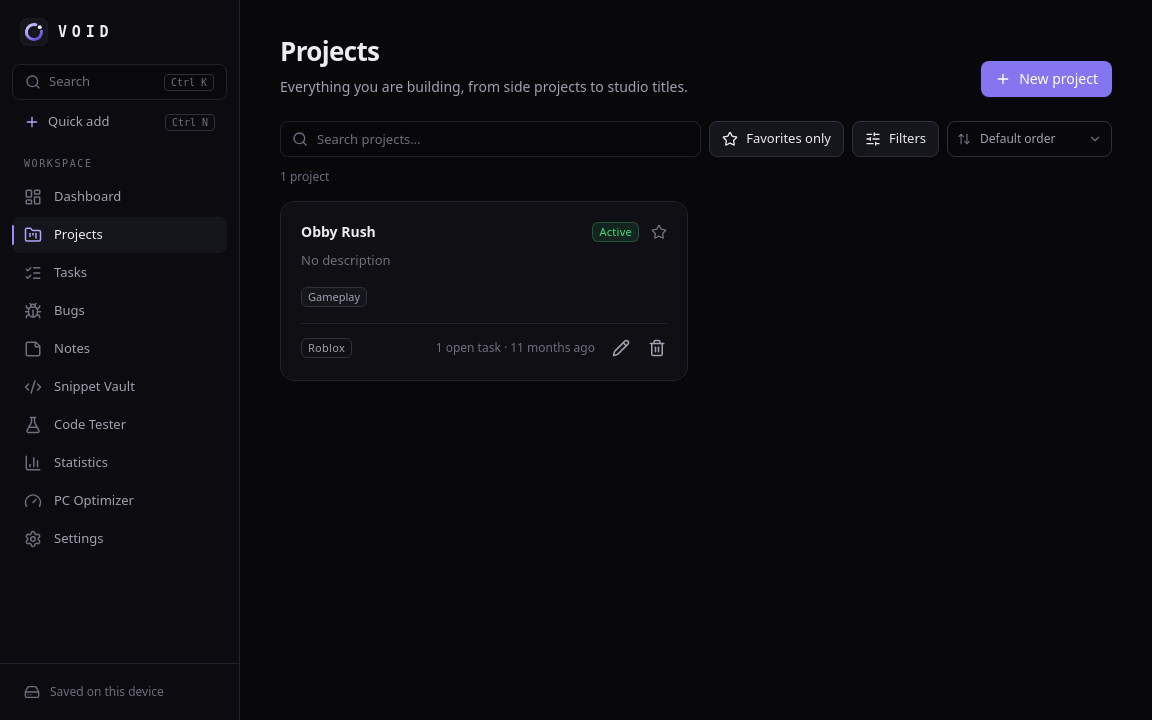
Scenario: undo after delete › restores a project together with the contents that were deleted with it
Click the button named "Delete Obby Rush" at (657, 348), box [639, 330, 675, 366]
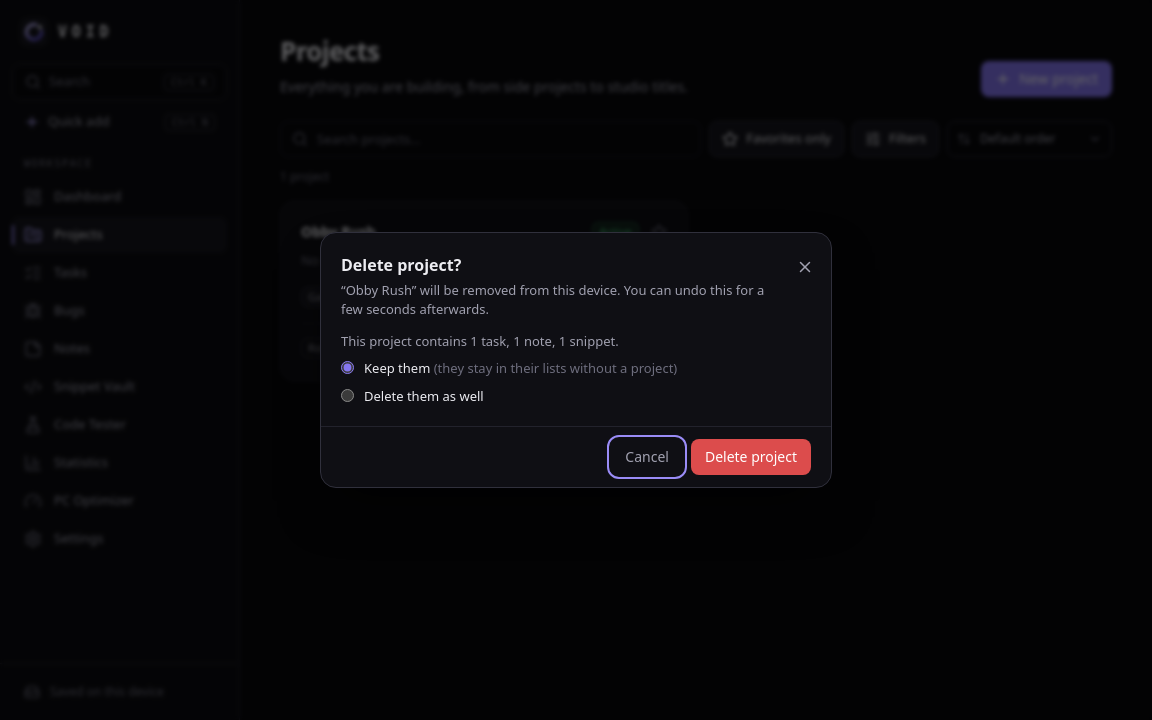
Click the radio button labelled "Delete them as well" at (348, 395), box [341, 389, 354, 402]
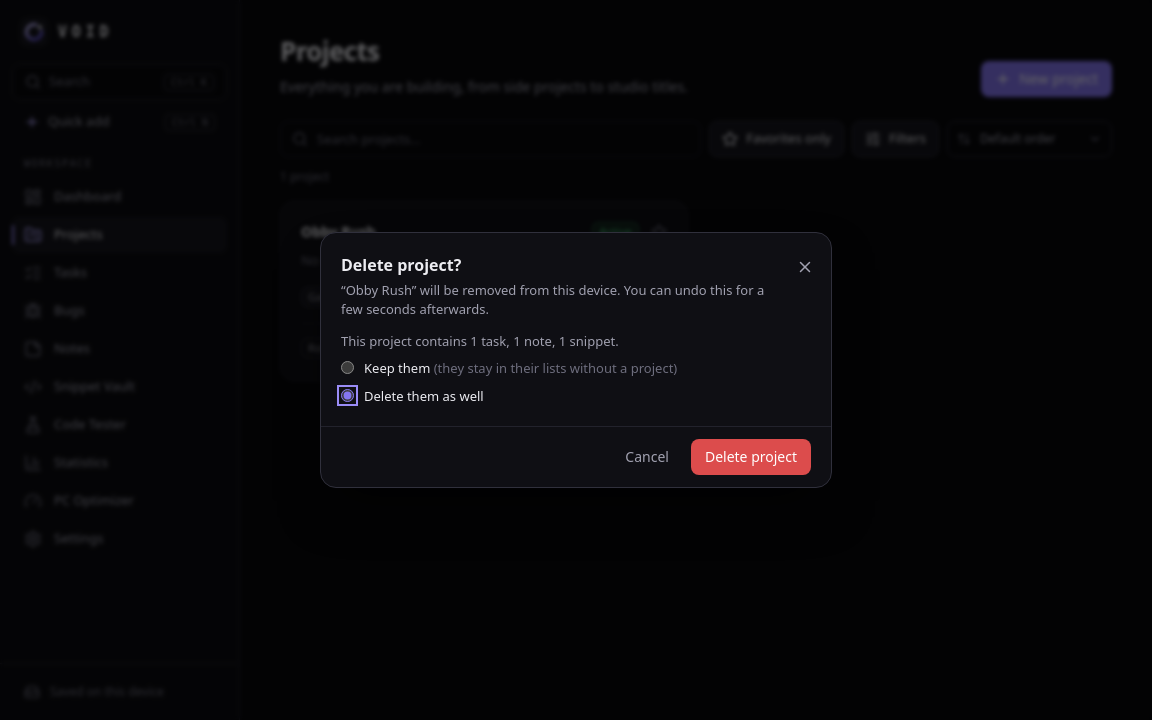
Click the button "Delete project" at (751, 457), box [691, 439, 811, 475]
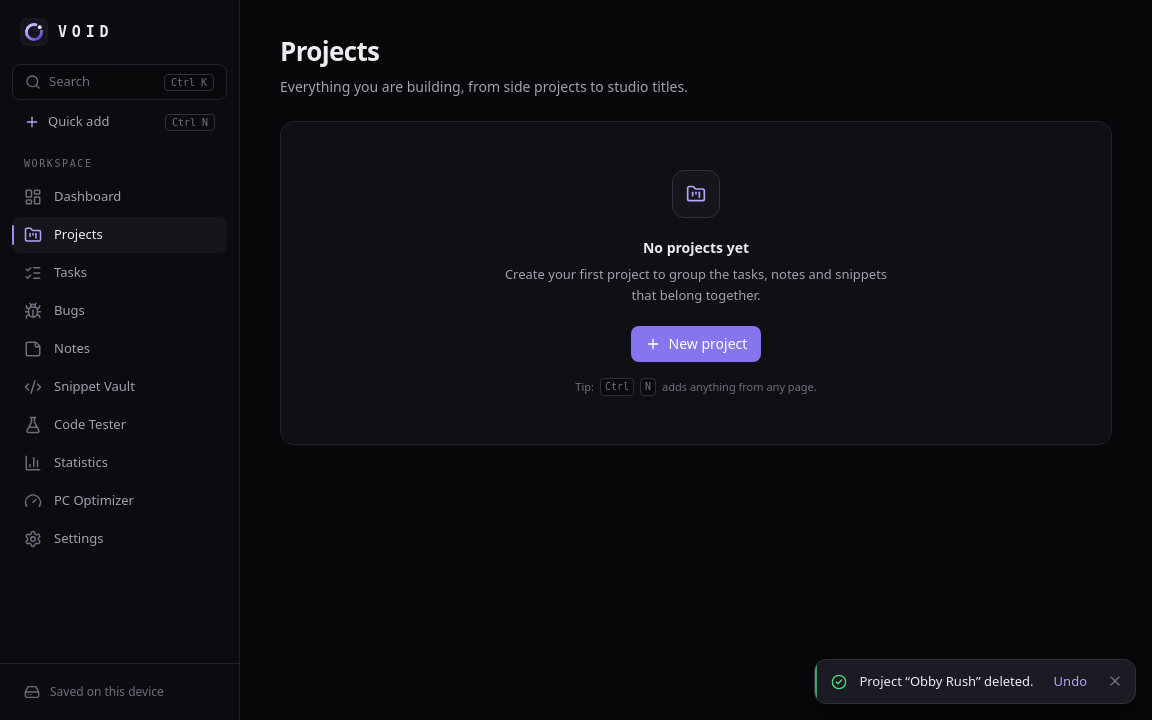
Click the button "Undo" at (1070, 681), box [1046, 670, 1095, 693]
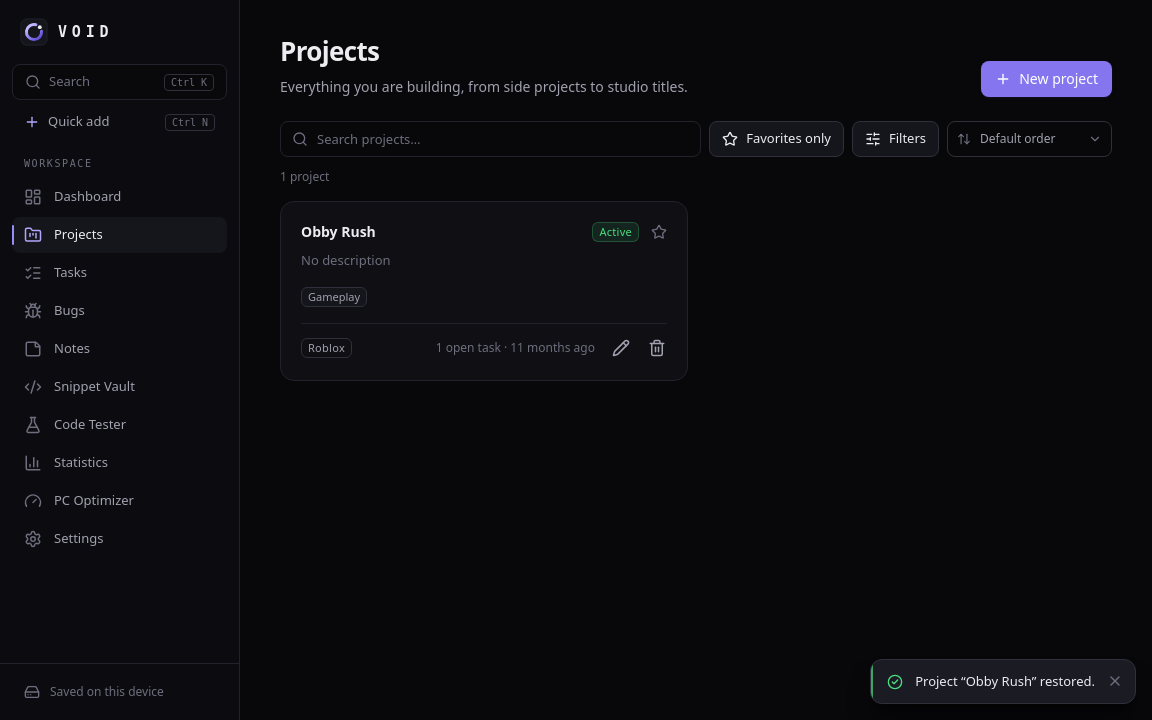
Expected: the link "Obby Rush" is shown, [301, 222, 376, 241]
